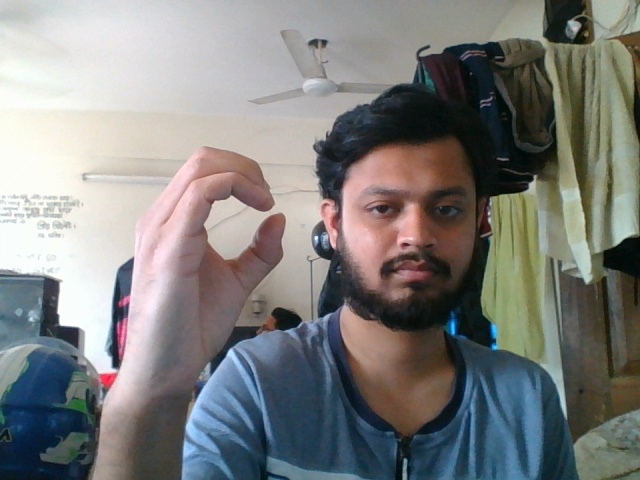ka: (99, 140, 294, 386)
